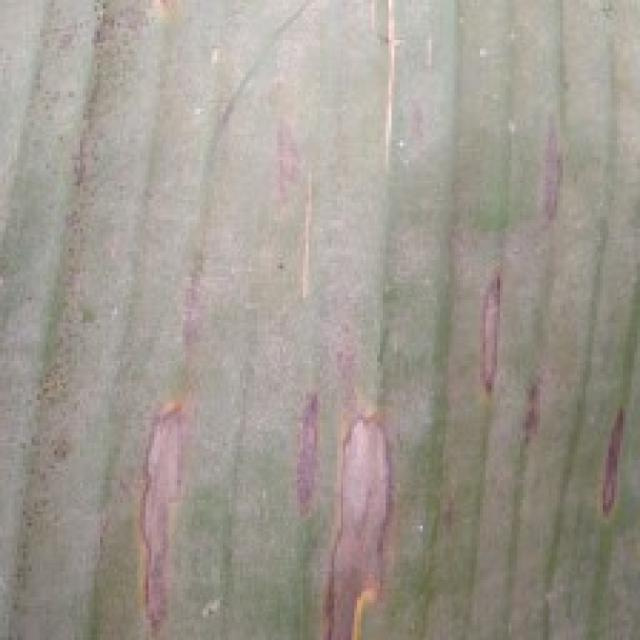Early_leaf_spot: (305, 368, 425, 640), (107, 377, 201, 640), (269, 352, 336, 514), (281, 125, 328, 338), (522, 90, 576, 248), (160, 230, 221, 362), (586, 384, 630, 552), (471, 257, 516, 418), (519, 351, 557, 465)
